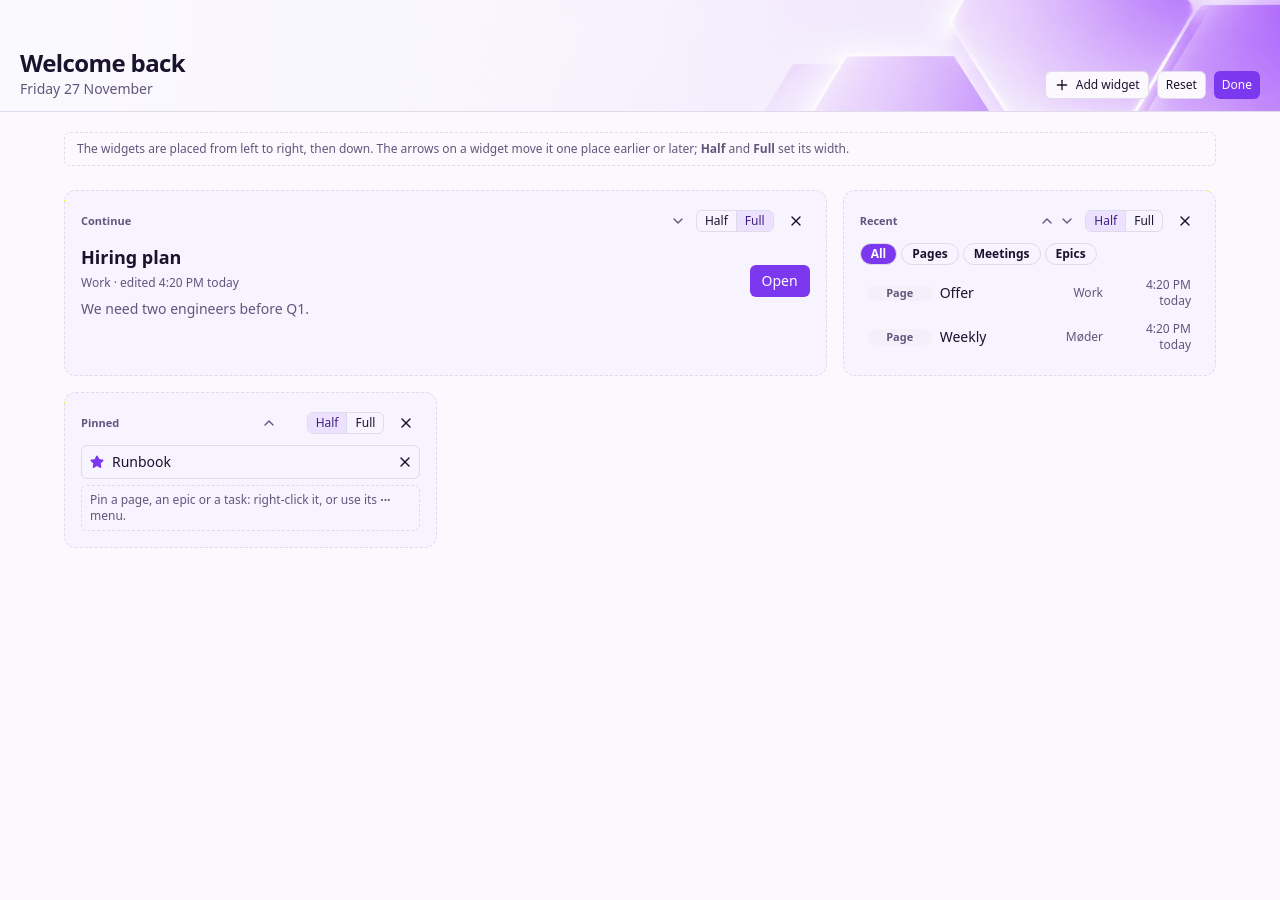
Test: StartPage › is rearranged with Customize: add, move, widen, remove and reset, and it is remembered
Earlier steps of the test are not shown.
Later steps or results of the test are not shown.
Click the button "Add widget" at (1097, 85), box [1045, 71, 1149, 99]
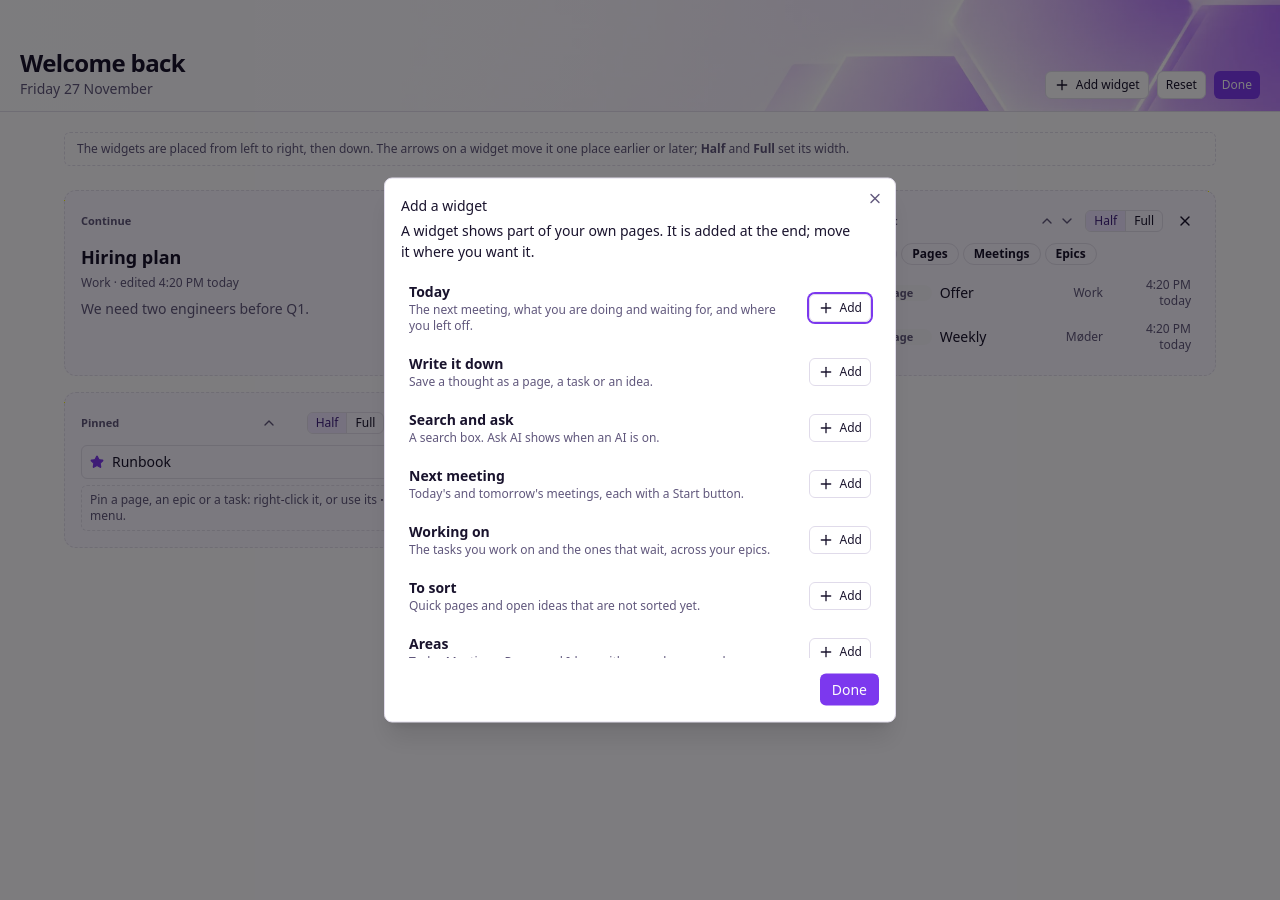
Click the button with aria-label "Add Areas" at (840, 652), box [809, 638, 871, 666]
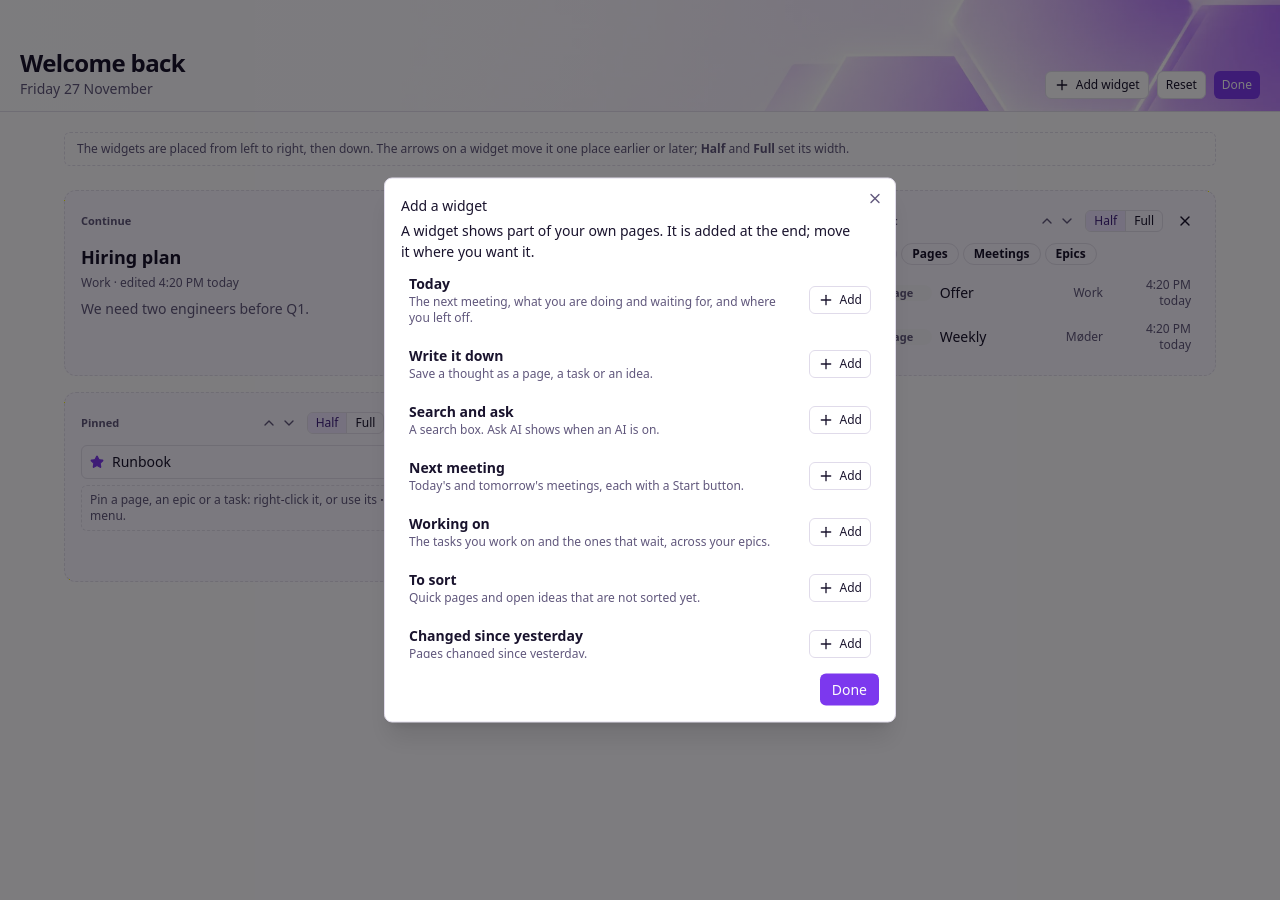
Click the button "Done" at (849, 690), box [820, 674, 879, 706]
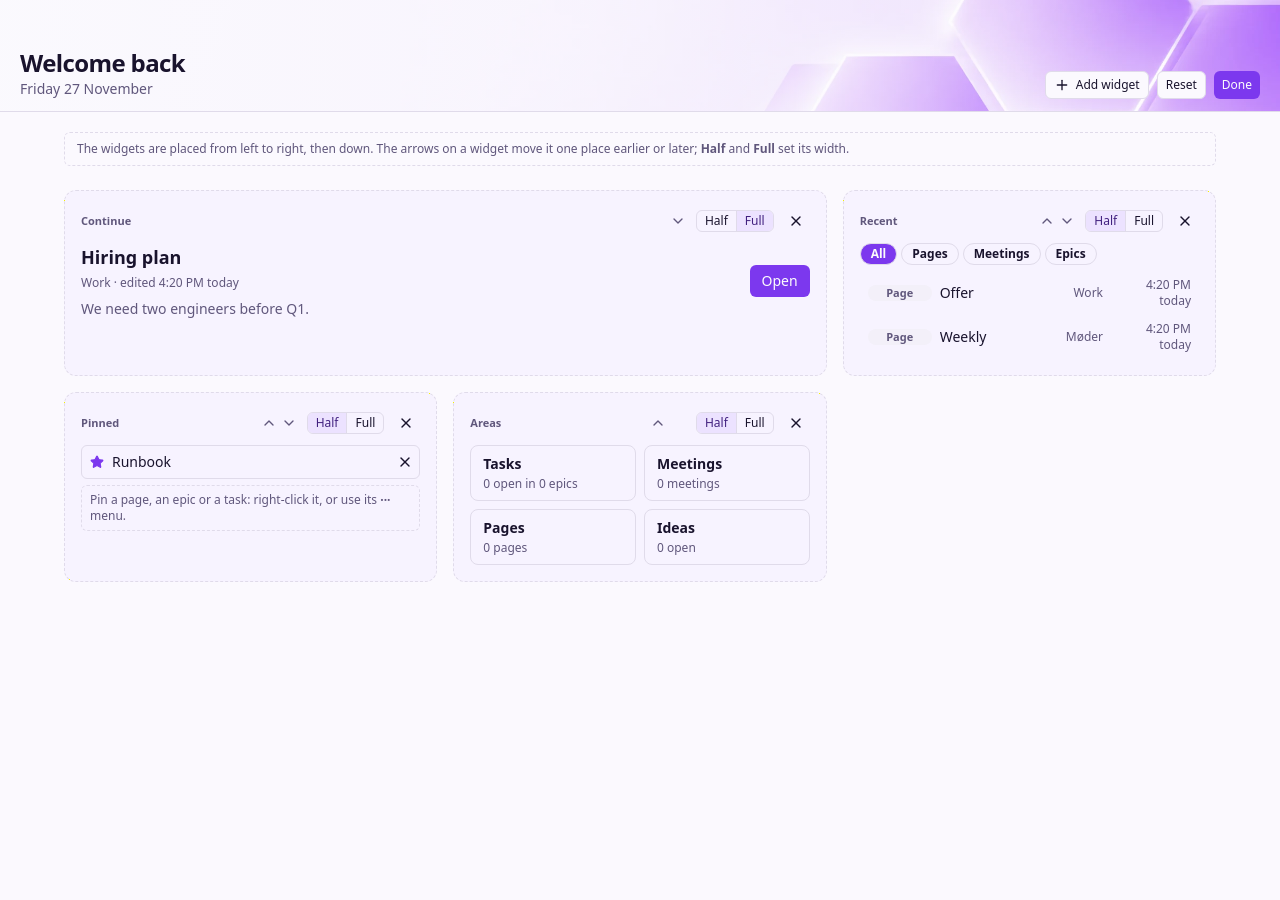
Now the element "Areas" is shown, box [453, 392, 827, 582]
Click the button named "Move Areas up" at (658, 423), box [648, 413, 668, 433]
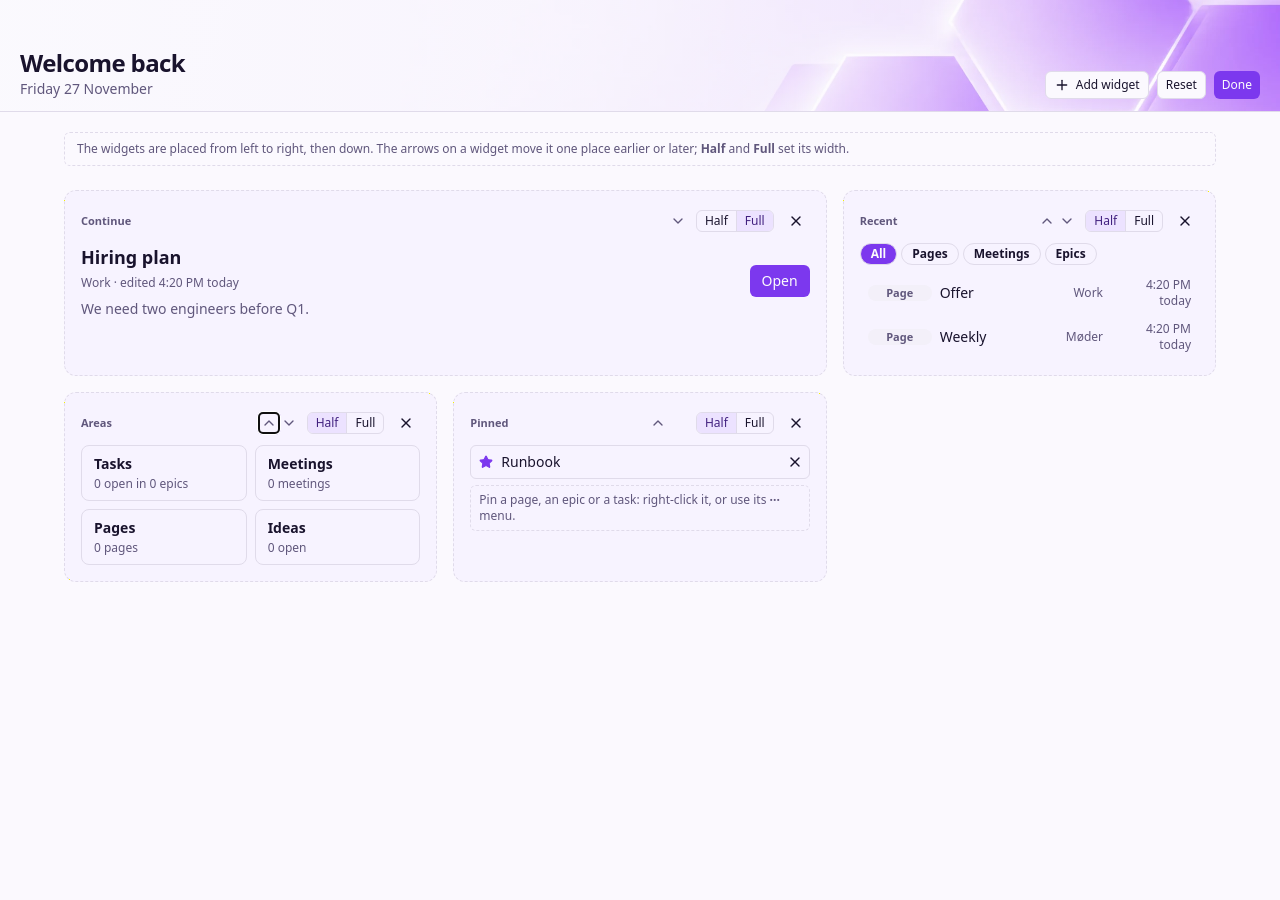
Click the button "Full" in the row of "Areas" at (365, 423), box [346, 413, 383, 433]
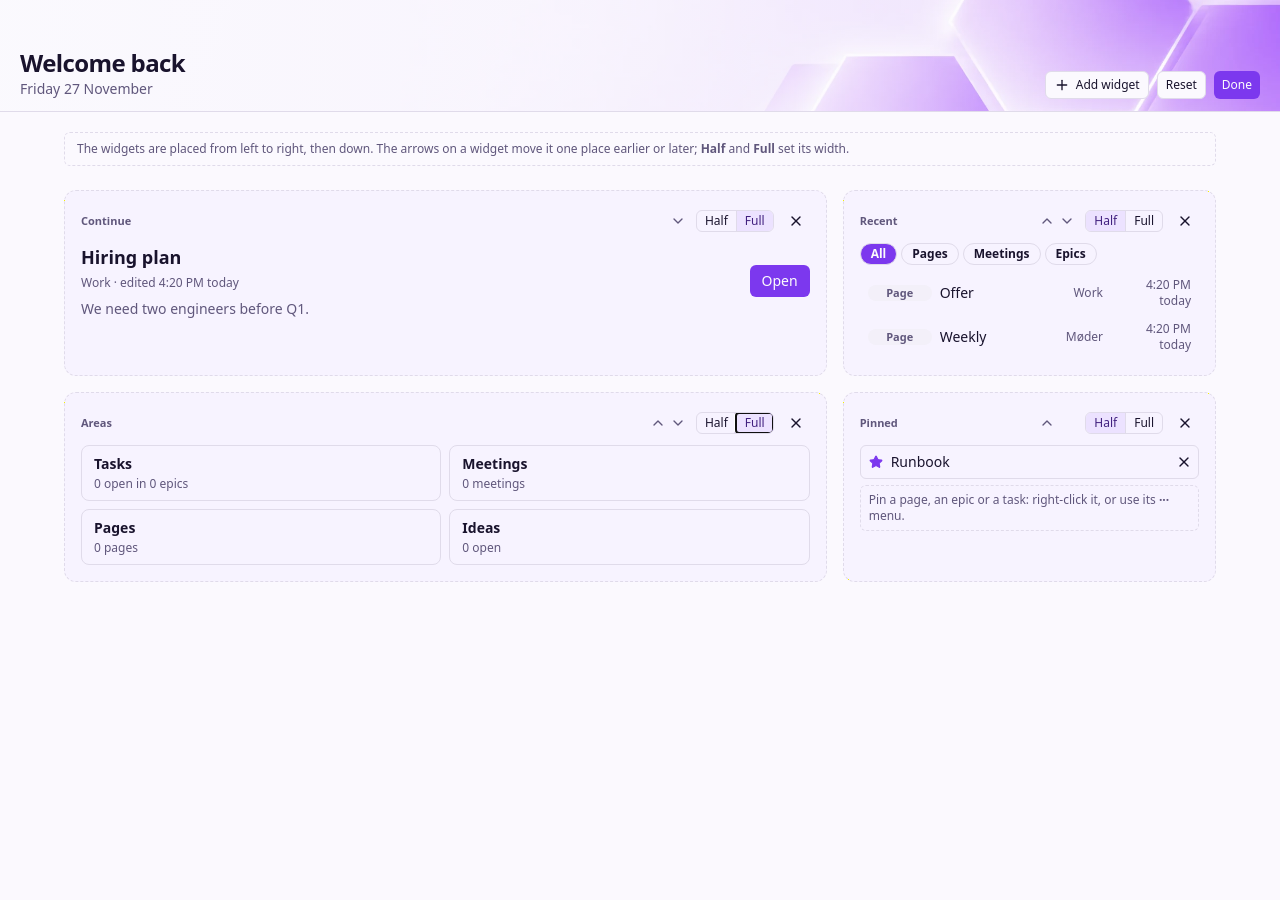
Click the button named "Remove Recent" at (1185, 221), box [1171, 207, 1199, 235]
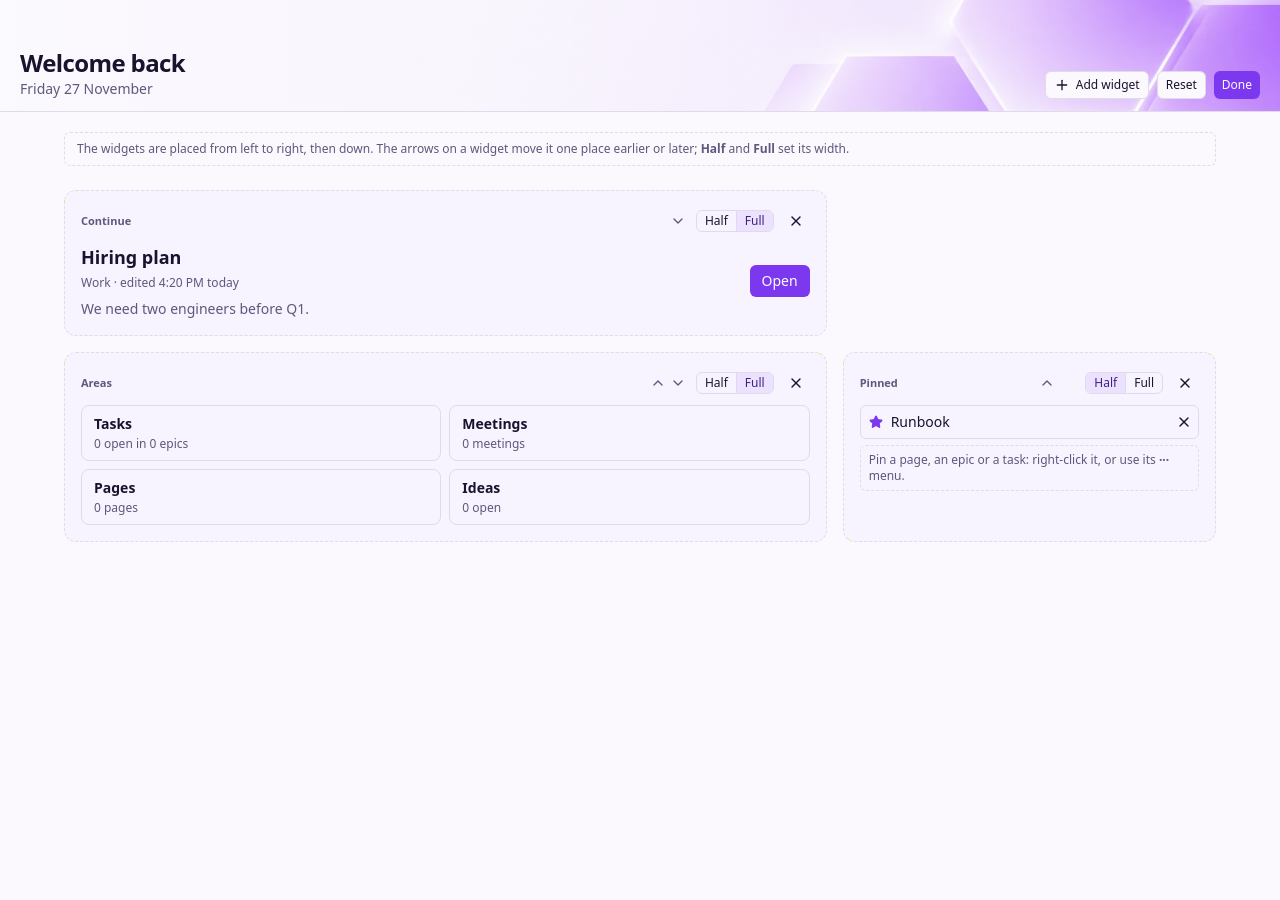
Now the heading "Recent" is gone
